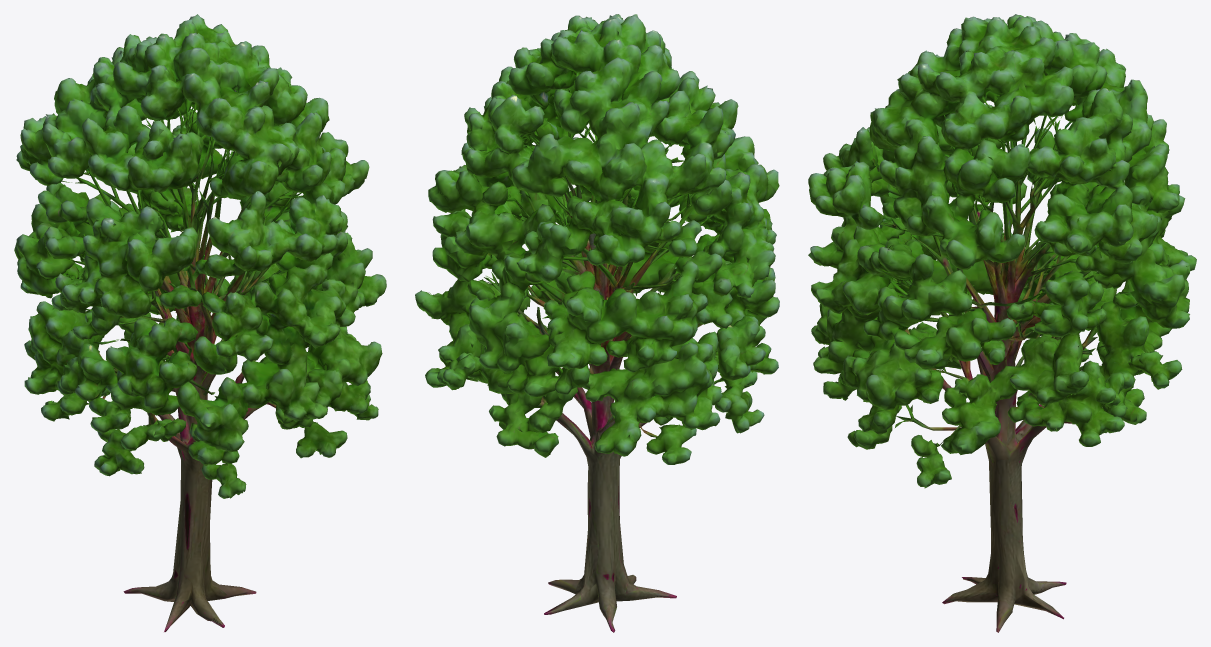
File: cathedral-american-elm-r3_semantic.glb
3 renders of one model, left to right at view 1: azimuth 30°, elevation 25°; view 2: azimuth 150°, elevation 25°; view 3: azimuth 270°, elevation 25°, orthographic.
Parts seen in each view (by area): view 1: Mesh_0; view 2: Mesh_0; view 3: Mesh_0.
Boxes of the visible parts, x1,y1,x2,y2 form: Mesh_0: [14, 14, 386, 631]; Mesh_0: [415, 14, 779, 632]; Mesh_0: [808, 14, 1196, 632].
Size of the model in its own units: 10.48 by 19 by 11.46.
2 materials, 2 textured.
